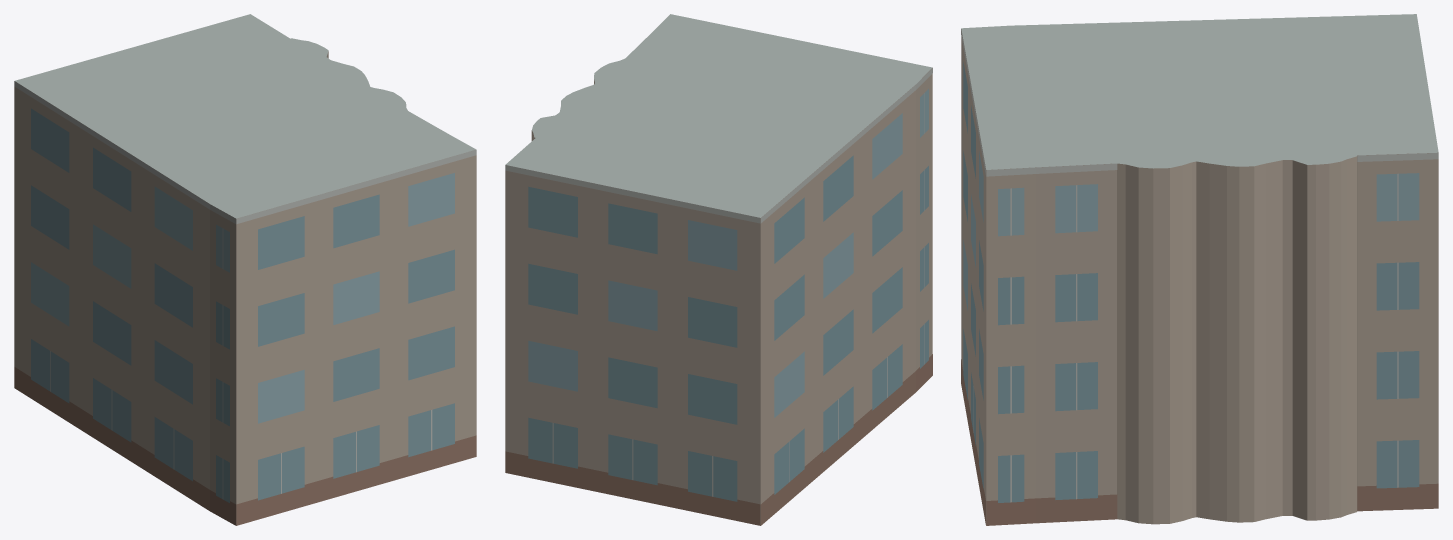
The model's file is survey-upis-32696713.glb.
The picture shows the model from 3 angles, left to right: view 1: azimuth 30°, elevation 25°; view 2: azimuth 150°, elevation 25°; view 3: azimuth 270°, elevation 25°; orthographic projection. The views are drawn at different scales.
Visible parts, largest first — view 1: survey-upis-32696713.tmp; view 2: survey-upis-32696713.tmp; view 3: survey-upis-32696713.tmp.
Part boxes in pixels (x1,y1,x2,y2): survey-upis-32696713.tmp: [14, 14, 476, 525]; survey-upis-32696713.tmp: [505, 14, 932, 525]; survey-upis-32696713.tmp: [961, 14, 1438, 525].
Size of the model in its own units: 12.43 by 13.2 by 16.06.
